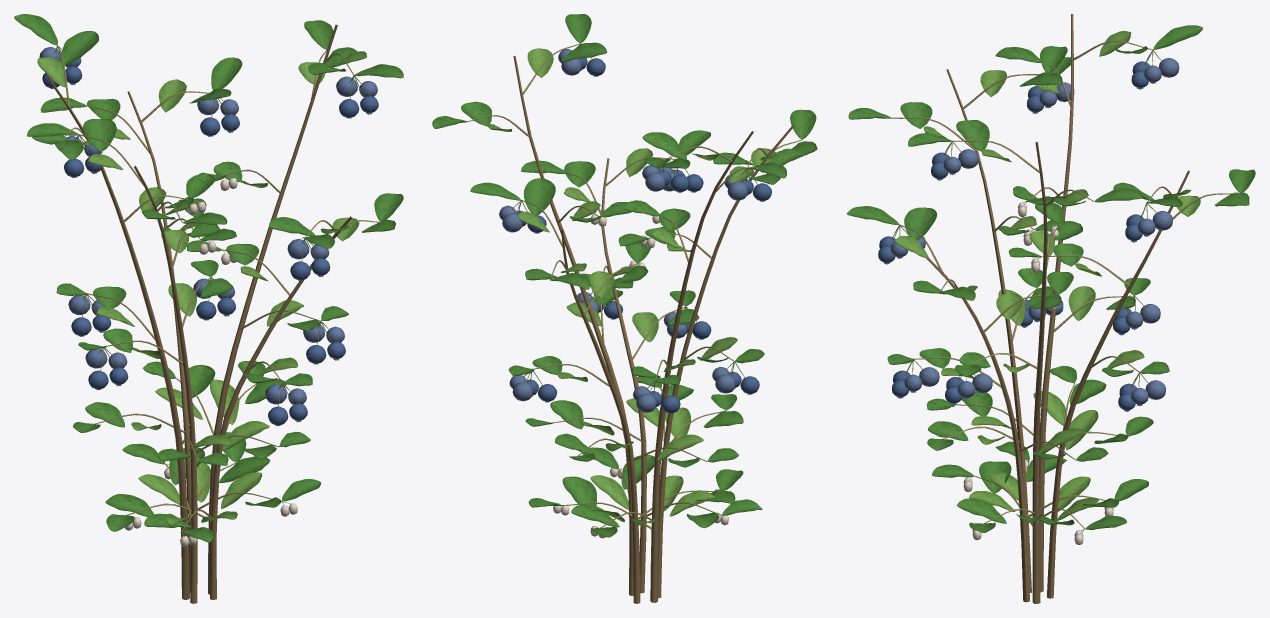
File: blueberry-southern-highbush-mobile.glb
3 renders of one model, left to right at view 1: azimuth 30°, elevation 25°; view 2: azimuth 150°, elevation 25°; view 3: azimuth 270°, elevation 25°, orthographic. The views are drawn at different scales.
Visible parts, largest first — view 1: Blueberry · Southern Highbush; view 2: Blueberry · Southern Highbush; view 3: Blueberry · Southern Highbush.
Boxes of the visible parts, x1,y1,x2,y2 form: Blueberry · Southern Highbush: (14,14,403,603); Blueberry · Southern Highbush: (432,14,817,603); Blueberry · Southern Highbush: (846,14,1255,603).
Bounding box in the file's own units: 0.4902 × 0.7554 × 0.5352.
Materials: 8 (3 with a texture image).
